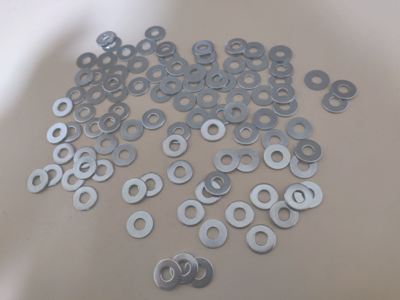circle: (184, 257, 214, 290), (154, 258, 183, 290), (170, 253, 199, 285), (247, 225, 277, 255), (199, 220, 228, 249), (177, 199, 206, 228), (225, 201, 255, 229), (126, 211, 154, 240), (270, 201, 299, 229), (295, 182, 323, 210), (250, 184, 279, 211), (204, 171, 233, 198), (195, 179, 223, 206), (263, 145, 291, 171), (137, 172, 164, 198), (285, 184, 311, 211), (235, 147, 261, 174), (290, 155, 318, 180), (295, 140, 323, 165), (167, 160, 195, 185), (121, 179, 147, 205), (286, 117, 314, 141), (199, 118, 227, 142), (321, 92, 350, 115), (39, 163, 64, 188), (214, 149, 240, 173), (91, 158, 115, 184), (262, 130, 289, 153), (73, 187, 98, 211), (185, 107, 210, 131), (61, 168, 85, 193), (112, 144, 137, 168), (94, 133, 119, 157), (252, 108, 278, 131), (120, 118, 144, 142), (73, 157, 97, 181), (73, 146, 97, 170), (52, 142, 76, 166), (163, 135, 188, 158), (141, 108, 166, 131), (234, 123, 259, 146), (331, 79, 357, 101), (237, 69, 263, 91), (107, 101, 131, 124), (273, 95, 297, 118), (27, 169, 49, 194), (305, 70, 331, 91), (167, 123, 192, 144), (226, 89, 251, 110), (270, 83, 296, 103), (268, 44, 294, 64), (98, 113, 121, 135), (252, 85, 275, 107), (224, 102, 248, 123), (268, 72, 293, 92), (206, 69, 228, 91), (85, 84, 107, 106), (106, 83, 129, 104), (197, 88, 220, 109), (73, 102, 96, 123), (172, 92, 196, 112), (269, 60, 294, 79), (52, 97, 74, 118), (73, 67, 95, 88), (84, 118, 106, 139), (47, 123, 68, 145), (60, 122, 82, 143), (64, 86, 87, 106), (95, 52, 118, 72), (183, 64, 206, 83), (160, 77, 183, 96), (128, 77, 151, 96), (150, 84, 173, 103), (223, 56, 246, 75), (246, 53, 269, 72), (242, 42, 266, 60), (127, 56, 149, 75), (166, 58, 188, 77), (146, 65, 168, 84), (225, 38, 248, 56), (103, 74, 124, 93), (101, 35, 123, 53), (115, 44, 137, 62), (195, 48, 217, 66), (158, 50, 180, 68), (76, 52, 97, 70), (145, 26, 167, 42), (192, 40, 214, 56), (155, 42, 177, 58), (137, 39, 157, 56), (96, 31, 117, 47)
